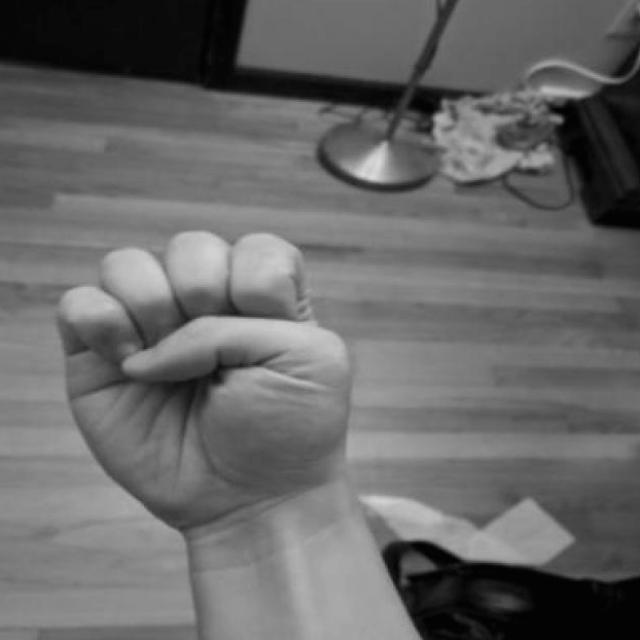E: (56, 216, 377, 533)
